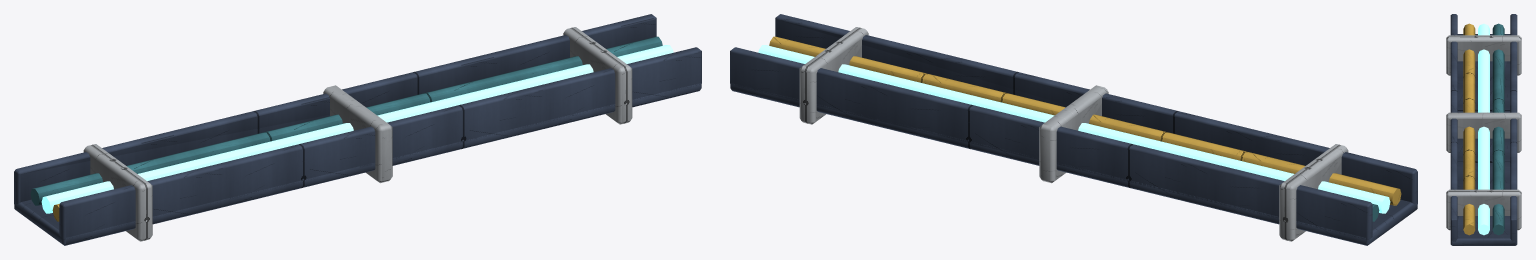
File: cable_tray.glb
3 views of the same model, side by side, from view 1: azimuth 30°, elevation 25°; view 2: azimuth 150°, elevation 25°; view 3: azimuth 270°, elevation 25° (orthographic). The views are drawn at different scales.
Visible parts, largest first — view 1: cable_tray_graphite_navy, cable_tray_titanium, cable_tray_teal_shell, cable_tray_emissive_cyan; view 2: cable_tray_graphite_navy, cable_tray_titanium, cable_tray_amber_accent, cable_tray_emissive_cyan; view 3: cable_tray_graphite_navy, cable_tray_titanium, cable_tray_amber_accent, cable_tray_teal_shell, cable_tray_emissive_cyan.
Boxes of the visible parts, x1,y1,x2,y2 form: cable_tray_graphite_navy: [14, 14, 701, 245]; cable_tray_titanium: [83, 27, 632, 241]; cable_tray_teal_shell: [30, 36, 662, 205]; cable_tray_emissive_cyan: [41, 45, 673, 213]; cable_tray_graphite_navy: [730, 14, 1417, 245]; cable_tray_titanium: [799, 27, 1348, 241]; cable_tray_amber_accent: [769, 36, 1401, 205]; cable_tray_emissive_cyan: [758, 45, 1390, 213]; cable_tray_graphite_navy: [1450, 14, 1517, 245]; cable_tray_titanium: [1446, 35, 1521, 230]; cable_tray_amber_accent: [1463, 23, 1475, 235]; cable_tray_teal_shell: [1492, 23, 1504, 235]; cable_tray_emissive_cyan: [1478, 23, 1489, 235].
Bounding box in the file's own units: 4 × 0.34 × 0.62.
5 materials, 4 textured.
